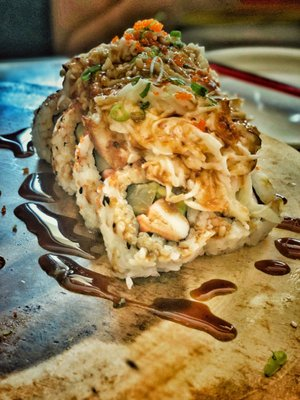sandwich: (31, 14, 291, 281)
